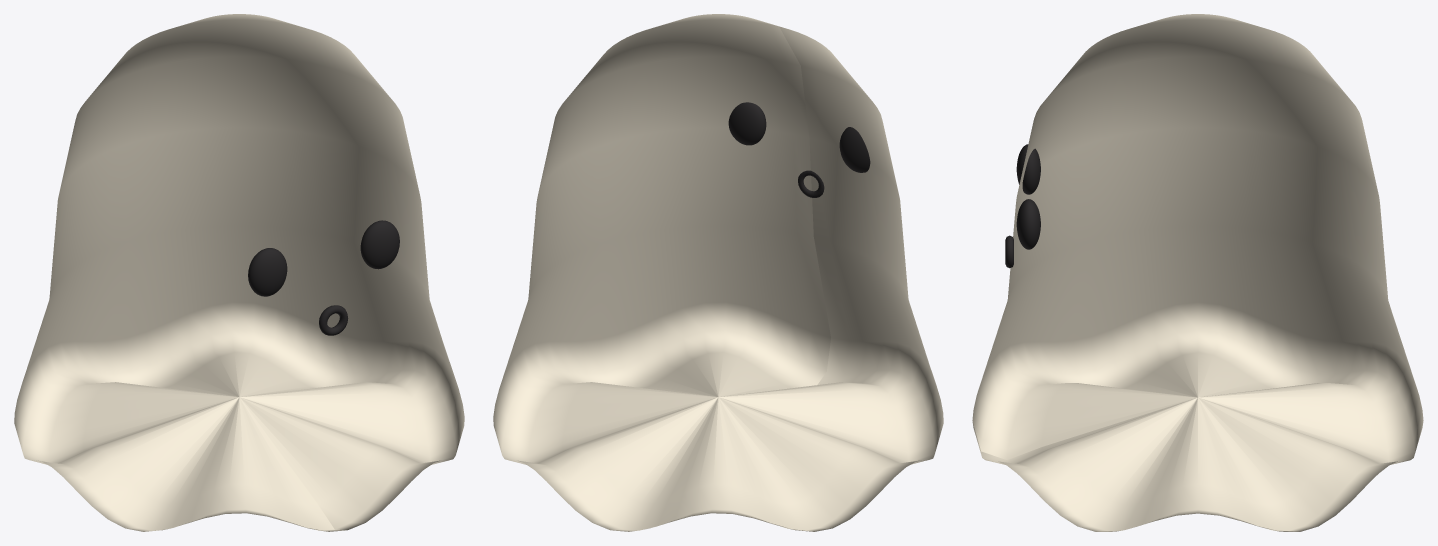
File: ghost.glb
3 views of the same model, side by side, from view 1: azimuth 30°, elevation 25°; view 2: azimuth 150°, elevation 25°; view 3: azimuth 270°, elevation 25° (orthographic).
Parts seen in each view (by area): view 1: Ghost_scalloped_body, Ghost_eye_-1, Ghost_eye_1, Ghost_mouth; view 2: Ghost_scalloped_body, Ghost_eye_1, Ghost_eye_-1; view 3: Ghost_scalloped_body, Ghost_eye_1, Ghost_eye_-1.
Boxes of the visible parts, left/top/right/bottom form: Ghost_scalloped_body: left=14, top=14, right=464, bottom=531; Ghost_eye_-1: left=248, top=248, right=287, bottom=296; Ghost_eye_1: left=360, top=220, right=399, bottom=269; Ghost_mouth: left=319, top=305, right=348, bottom=335; Ghost_scalloped_body: left=493, top=14, right=943, bottom=531; Ghost_eye_1: left=728, top=102, right=766, bottom=145; Ghost_eye_-1: left=839, top=127, right=870, bottom=172; Ghost_scalloped_body: left=972, top=14, right=1423, bottom=531; Ghost_eye_1: left=1016, top=199, right=1040, bottom=249; Ghost_eye_-1: left=1016, top=144, right=1040, bottom=194.
Size of the model in its own units: 0.52 by 0.5449 by 0.52.
